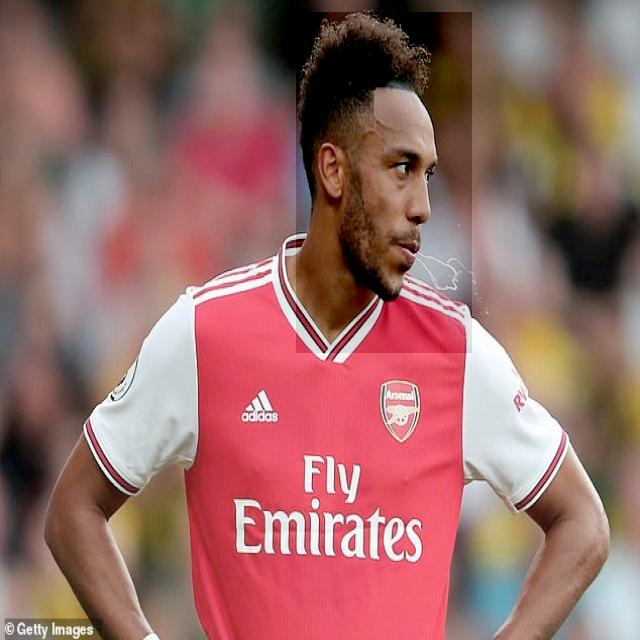Spitting: (296, 12, 472, 353)
